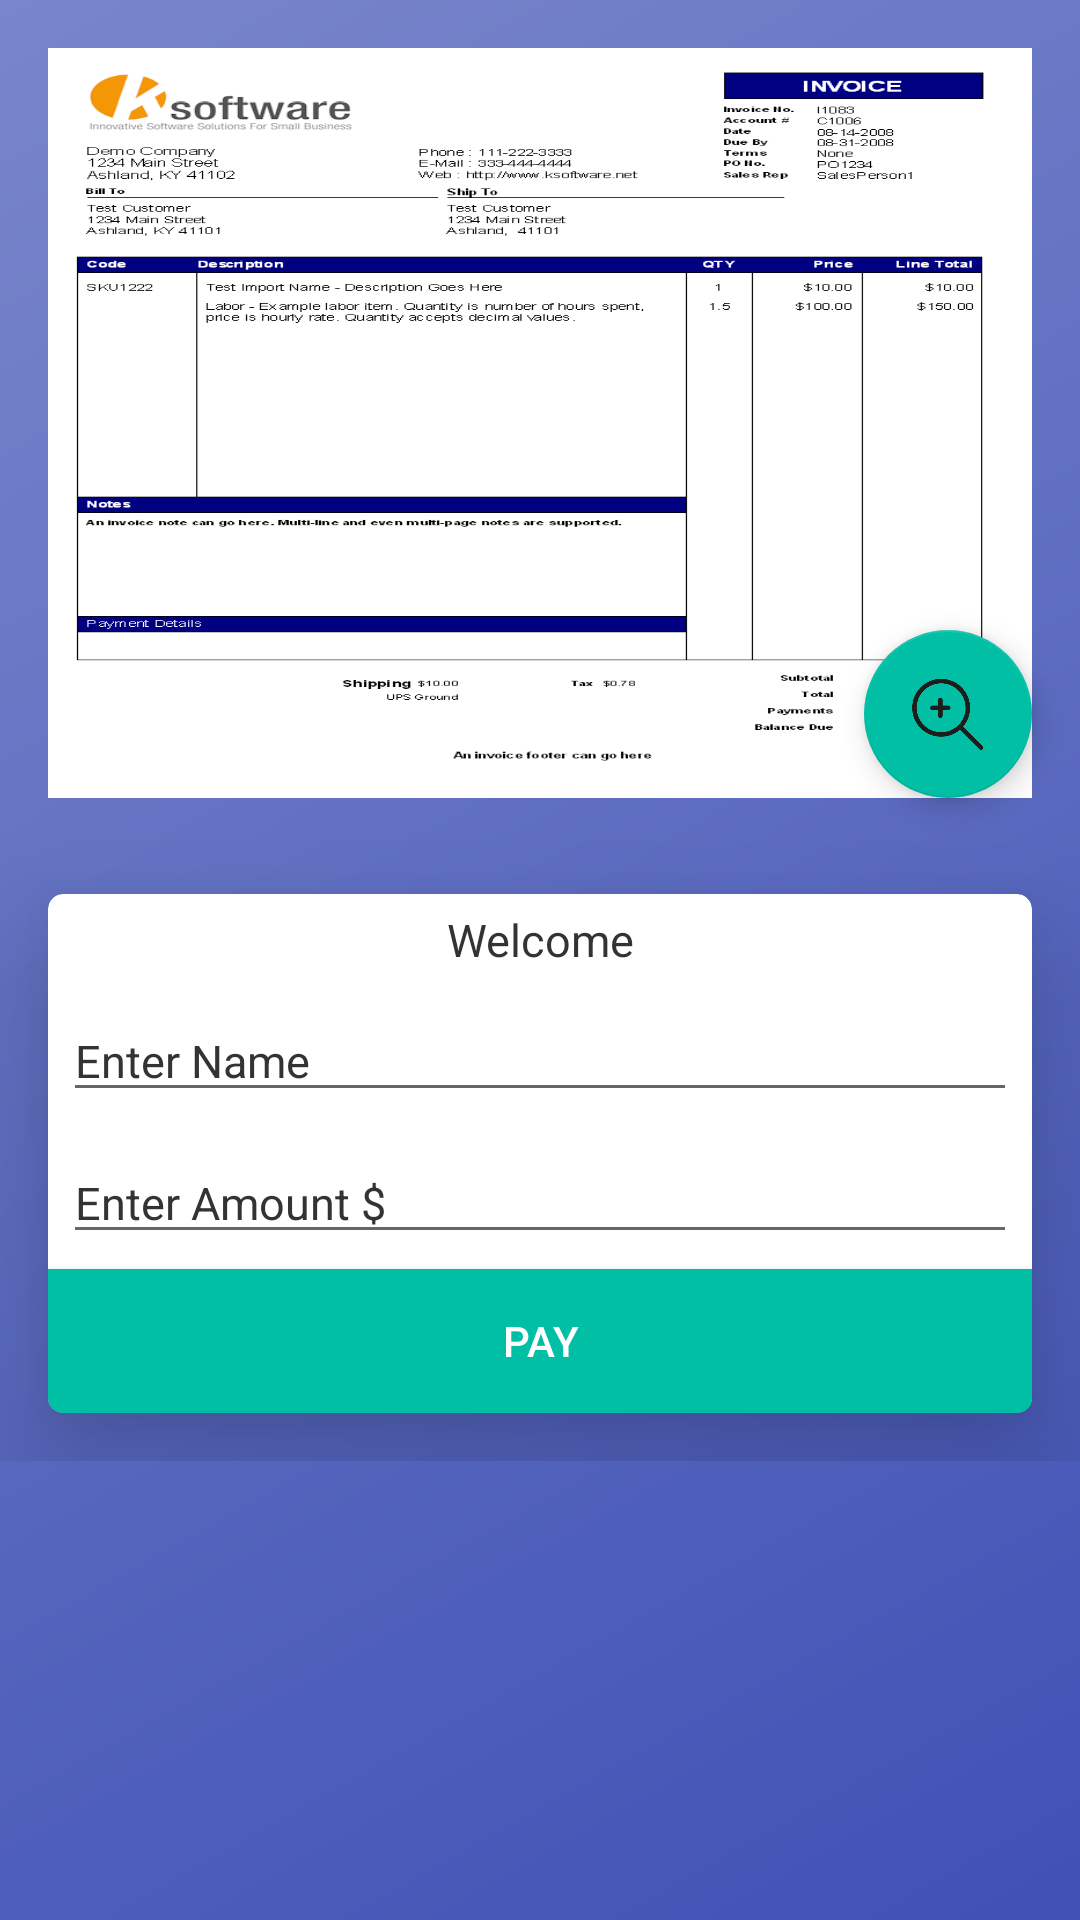

Where to tap for icons on this 1080x1920 app screen, as (x=x, y=y):
zoom in: (x=948, y=714)
